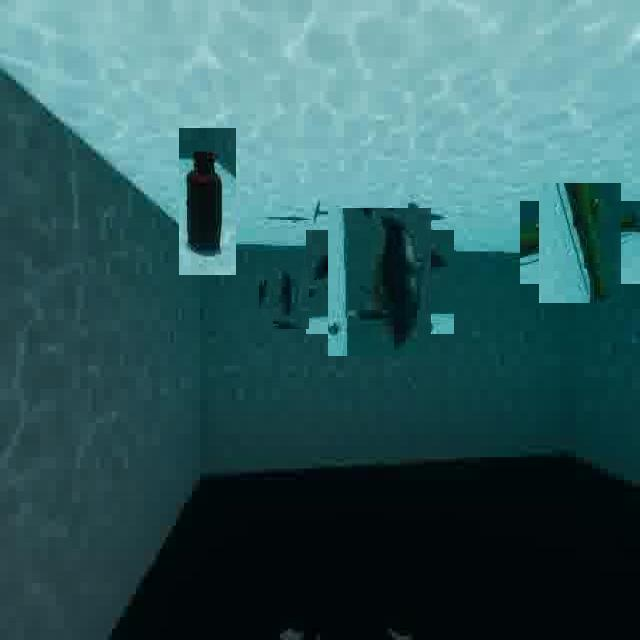Cylinder: (179, 128, 236, 275)
Pipe: (530, 192, 630, 294)
Whale: (317, 219, 443, 345), (266, 273, 316, 323)
